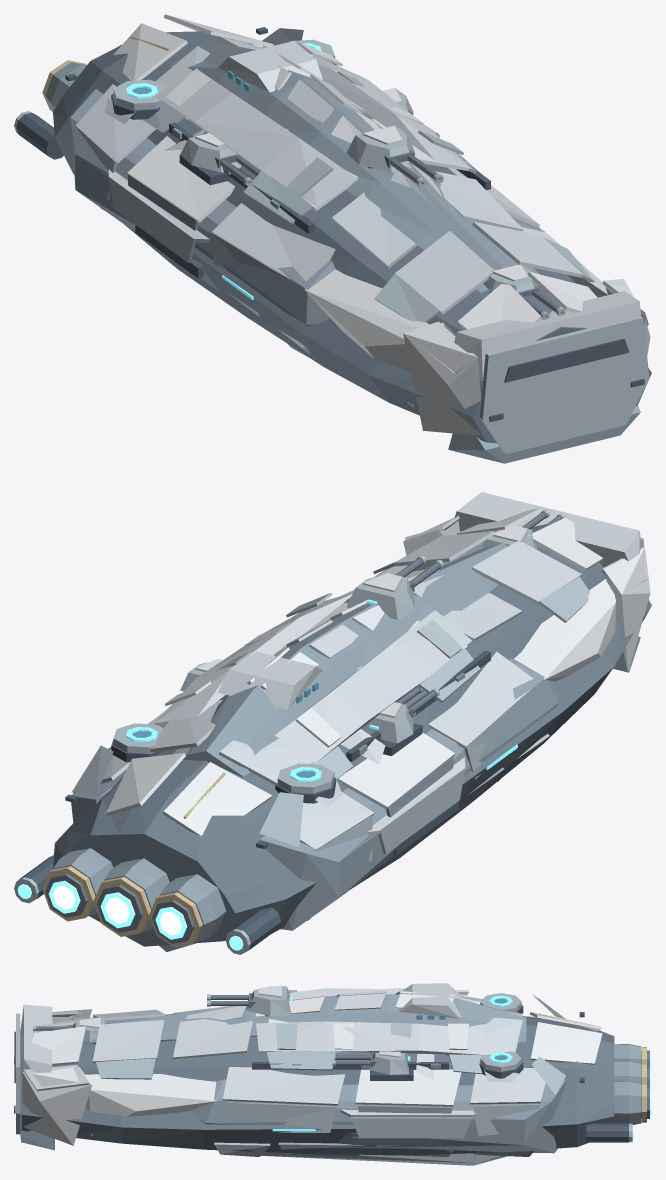
Rendered from NX02_Heavy_Cruiser_V5_Blunt.glb.
3 views of the same model, one above another, from view 1: azimuth 30°, elevation 25°; view 2: azimuth 150°, elevation 25°; view 3: azimuth 270°, elevation 25° (orthographic). The views are drawn at different scales.
Parts seen in each view (by area): view 1: NX02_Heavy_Cruiser_V5_armor, NX02_Heavy_Cruiser_V5_steel, NX02_Heavy_Cruiser_V5_white, NX02_Heavy_Cruiser_V5_shadow, NX02_Heavy_Cruiser_V5_dark, NX02_Heavy_Cruiser_V5_carbon; view 2: NX02_Heavy_Cruiser_V5_armor, NX02_Heavy_Cruiser_V5_dark, NX02_Heavy_Cruiser_V5_shadow, NX02_Heavy_Cruiser_V5_white, NX02_Heavy_Cruiser_V5_steel, NX02_Heavy_Cruiser_V5_carbon, NX02_Heavy_Cruiser_V5_gold, NX02_Heavy_Cruiser_V5_cyan, NX02_Heavy_Cruiser_V5_plasma, NX02_Heavy_Cruiser_V5_cyan_dim; view 3: NX02_Heavy_Cruiser_V5_armor, NX02_Heavy_Cruiser_V5_dark, NX02_Heavy_Cruiser_V5_white, NX02_Heavy_Cruiser_V5_shadow, NX02_Heavy_Cruiser_V5_steel, NX02_Heavy_Cruiser_V5_carbon, NX02_Heavy_Cruiser_V5_cyan_dim, NX02_Heavy_Cruiser_V5_gold.
Part boxes in pixels (box(x1,y1,x2,y2)): NX02_Heavy_Cruiser_V5_armor: box(76, 37, 648, 380); NX02_Heavy_Cruiser_V5_steel: box(14, 28, 649, 454); NX02_Heavy_Cruiser_V5_white: box(113, 14, 650, 435); NX02_Heavy_Cruiser_V5_shadow: box(45, 41, 640, 463); NX02_Heavy_Cruiser_V5_dark: box(53, 31, 651, 443); NX02_Heavy_Cruiser_V5_carbon: box(16, 27, 644, 422); NX02_Heavy_Cruiser_V5_armor: box(100, 492, 647, 850); NX02_Heavy_Cruiser_V5_dark: box(45, 512, 651, 946); NX02_Heavy_Cruiser_V5_shadow: box(52, 541, 640, 951); NX02_Heavy_Cruiser_V5_white: box(106, 508, 650, 835); NX02_Heavy_Cruiser_V5_steel: box(14, 509, 648, 954); NX02_Heavy_Cruiser_V5_carbon: box(19, 650, 490, 950); NX02_Heavy_Cruiser_V5_gold: box(42, 772, 225, 947); NX02_Heavy_Cruiser_V5_cyan: box(17, 880, 243, 950); NX02_Heavy_Cruiser_V5_plasma: box(53, 885, 182, 935); NX02_Heavy_Cruiser_V5_cyan_dim: box(126, 599, 517, 781); NX02_Heavy_Cruiser_V5_armor: box(20, 983, 545, 1117); NX02_Heavy_Cruiser_V5_dark: box(21, 993, 649, 1155); NX02_Heavy_Cruiser_V5_white: box(22, 985, 602, 1145); NX02_Heavy_Cruiser_V5_shadow: box(20, 994, 641, 1156); NX02_Heavy_Cruiser_V5_steel: box(16, 986, 632, 1165); NX02_Heavy_Cruiser_V5_carbon: box(14, 1005, 641, 1145); NX02_Heavy_Cruiser_V5_cyan_dim: box(272, 995, 512, 1131); NX02_Heavy_Cruiser_V5_gold: box(539, 1013, 646, 1122).
Bounding box in the file's own units: 8.45 × 6.95 × 23.96.
